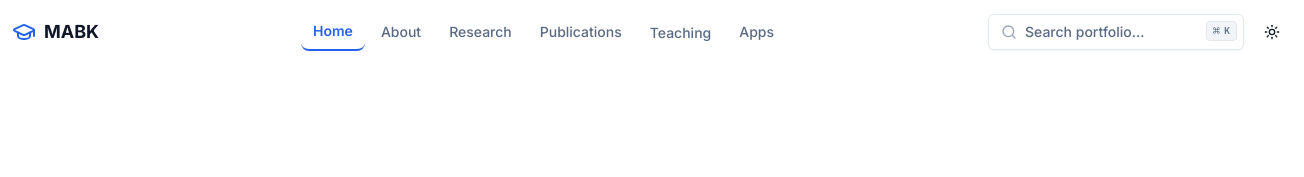
Navbar › exposes keyboard-accessible disclosure state for the teaching submenu
Focus the link "Teaching" at (681, 32), box [650, 24, 711, 41]
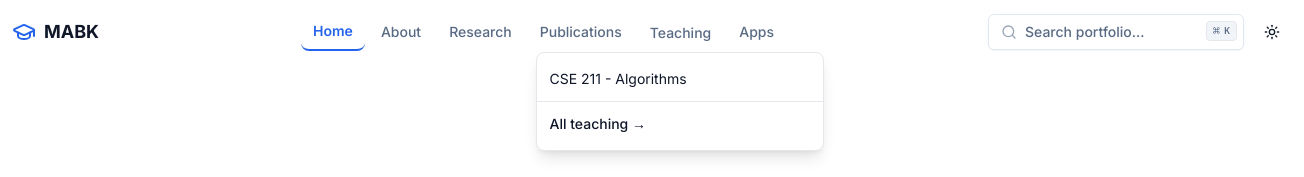
Check: the link "All teaching →" is shown, box [550, 115, 646, 132]
